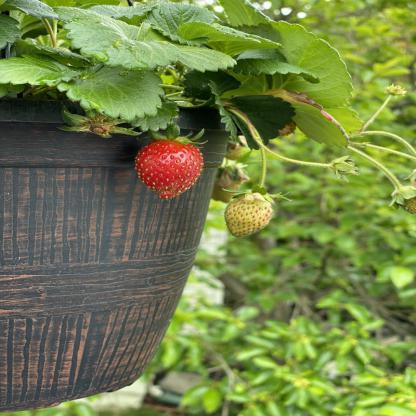strawberry: (120, 118, 210, 202)
